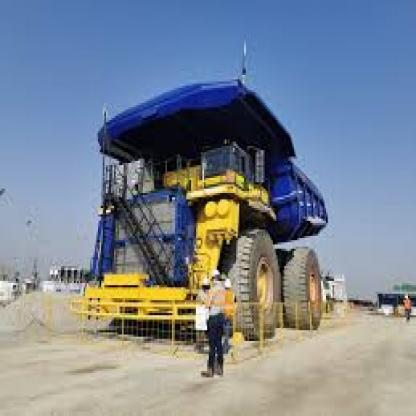dump_truck: (88, 81, 352, 376)
person: (201, 263, 230, 380)
